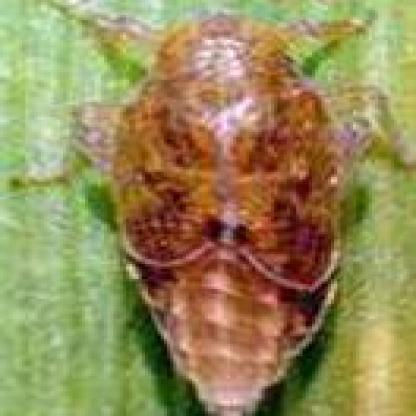brown-planthopper: (95, 12, 350, 416)
